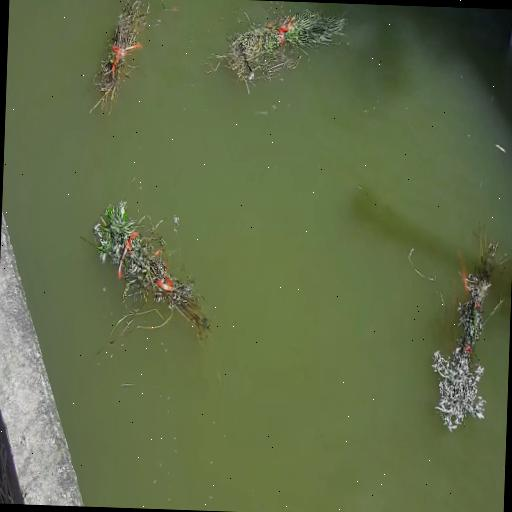twig: (83, 196, 215, 348), (423, 219, 512, 433), (214, 2, 350, 96), (90, 0, 158, 119)
